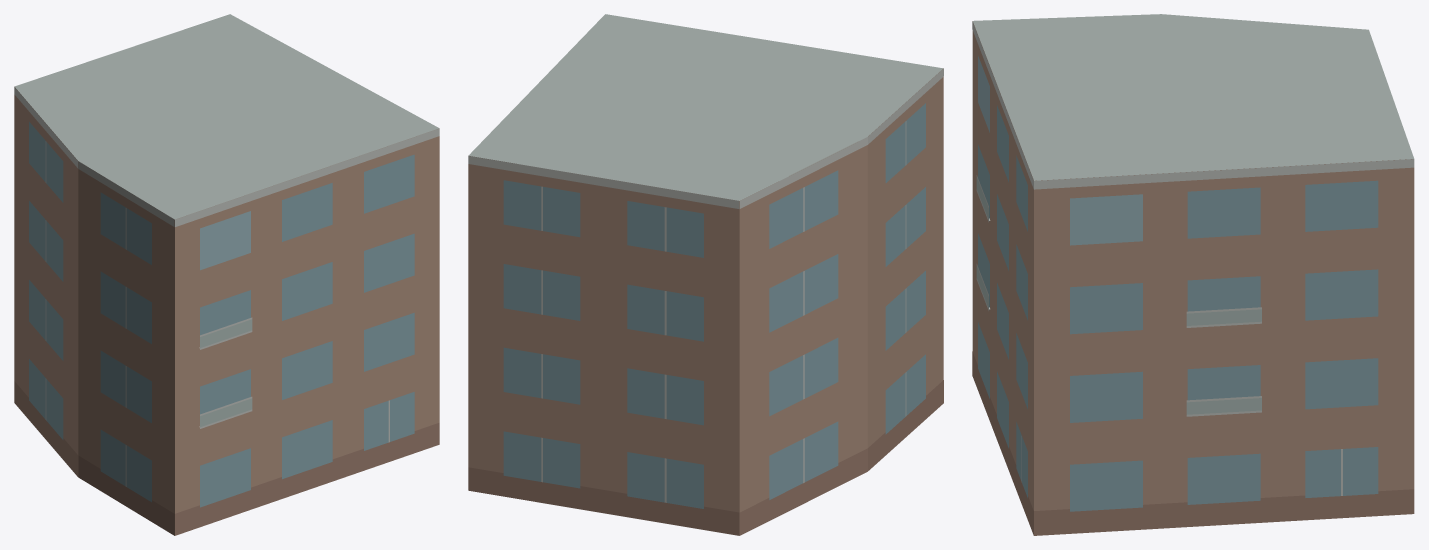
Rendered from survey-upis-32808079.glb.
3 views of the same model, side by side, from view 1: azimuth 30°, elevation 25°; view 2: azimuth 150°, elevation 25°; view 3: azimuth 270°, elevation 25° (orthographic). The views are drawn at different scales.
Parts seen in each view (by area): view 1: survey-upis-32808079.tmp; view 2: survey-upis-32808079.tmp; view 3: survey-upis-32808079.tmp.
Boxes of the visible parts, x1=… form: survey-upis-32808079.tmp: x1=14, y1=14, x2=439, y2=535; survey-upis-32808079.tmp: x1=468, y1=14, x2=943, y2=535; survey-upis-32808079.tmp: x1=972, y1=14, x2=1414, y2=535.
Size of the model in its own units: 10.03 by 9.94 by 11.22.
